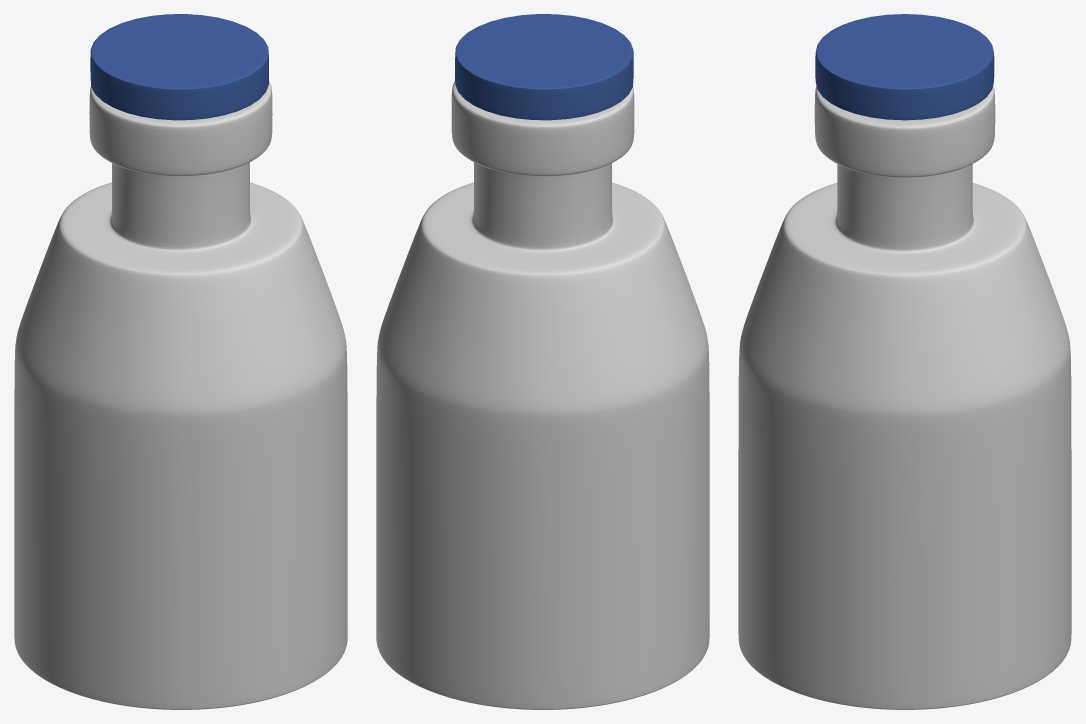
The model's file is Regeant Bottle Phosphorus (Red).fbx.
The picture shows the model from 3 angles, left to right: view 1: azimuth 30°, elevation 25°; view 2: azimuth 150°, elevation 25°; view 3: azimuth 270°, elevation 25°; orthographic projection.
Visible parts, largest first — view 1: bottle, cap; view 2: bottle, cap; view 3: bottle, cap.
Part boxes in pixels (x1,y1,x2,y2): bottle: (14, 81, 347, 709); cap: (90, 14, 268, 120); bottle: (376, 81, 709, 709); cap: (455, 14, 633, 120); bottle: (738, 86, 1071, 709); cap: (815, 14, 994, 120).
Bounding box in the file's own units: 2.77 × 5.39 × 2.77.
